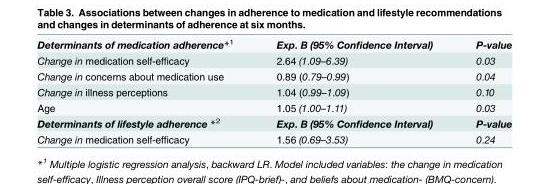table: (36, 37, 511, 145)
table column: (36, 37, 254, 145), (254, 37, 453, 145), (453, 37, 511, 145)
table row: (36, 114, 511, 131), (36, 52, 511, 68), (36, 83, 511, 99), (36, 37, 511, 52), (36, 68, 511, 83), (36, 99, 511, 114), (36, 131, 511, 145)
